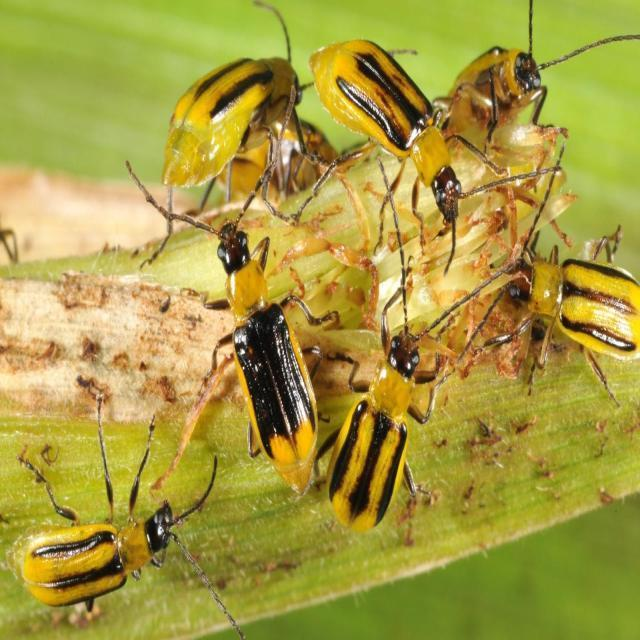trips: (291, 174, 527, 586), (124, 163, 366, 509), (19, 395, 228, 640), (305, 28, 468, 245), (502, 220, 639, 386), (430, 18, 638, 125), (166, 37, 299, 186)
